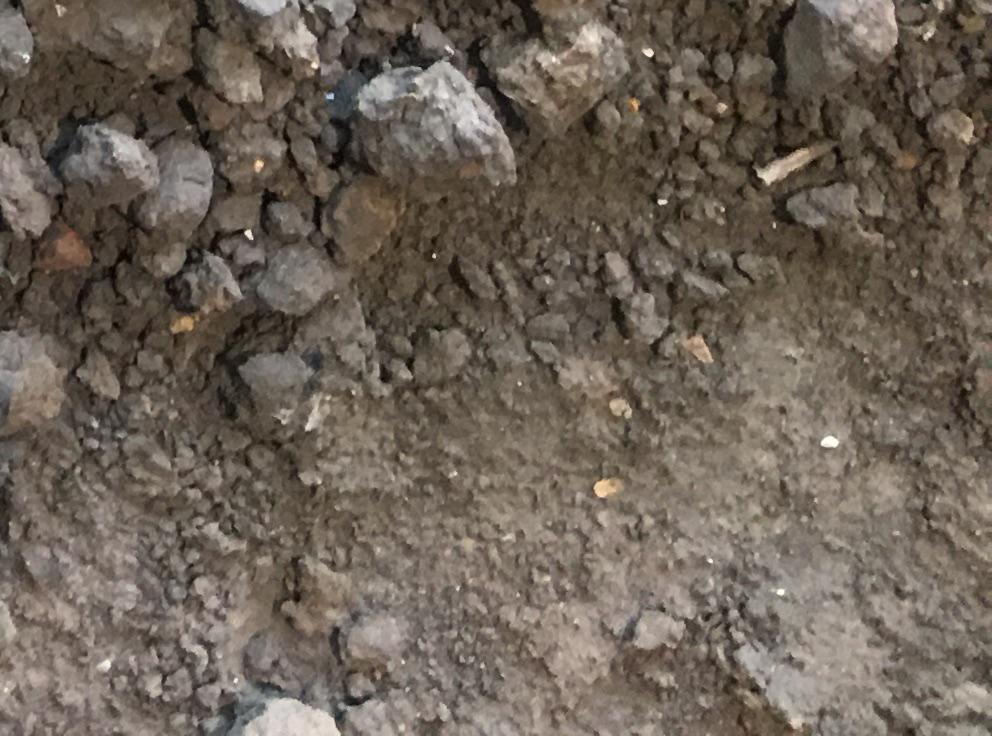block: (351, 64, 519, 196), (484, 23, 632, 145), (778, 2, 900, 105), (142, 138, 211, 283), (57, 127, 160, 208)
